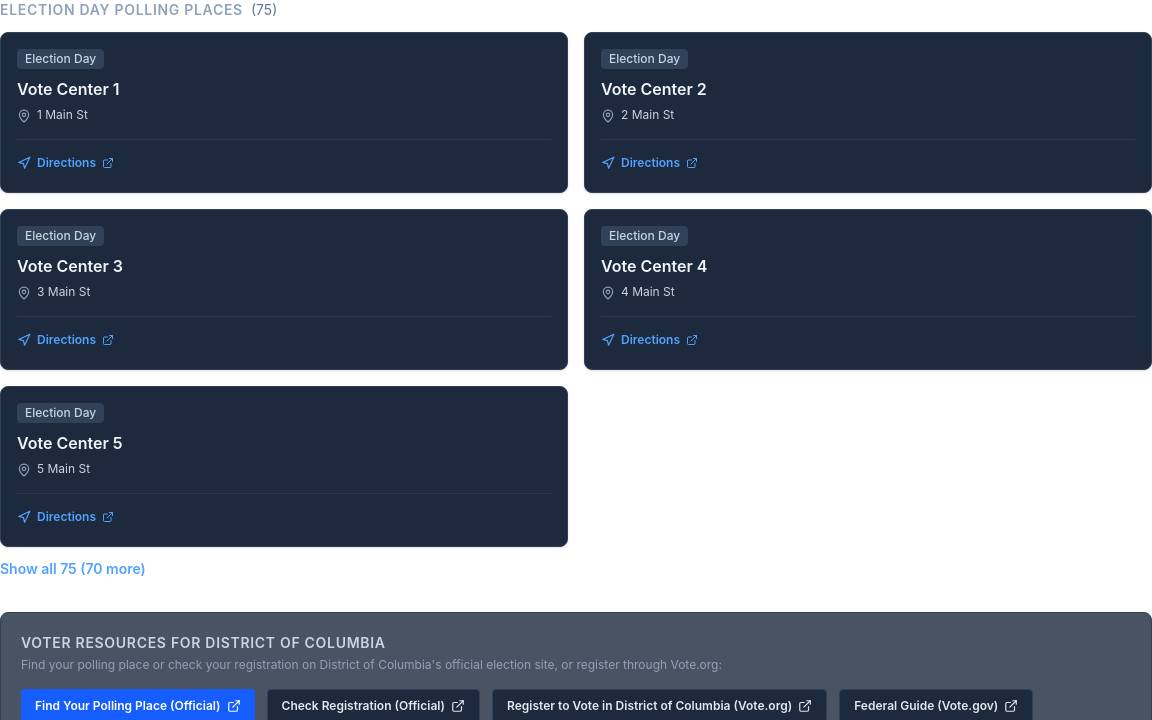
Test: VotingLocations Component › shows the first 5 locations of a long list and expands on request
Check: the heading "Vote Center 5" is shown, box left=17, top=433, right=123, bottom=453
Step 1. Click the button "Show all 75 (70 more)" → [73, 569], box left=0, top=559, right=146, bottom=579
(page scrolled)
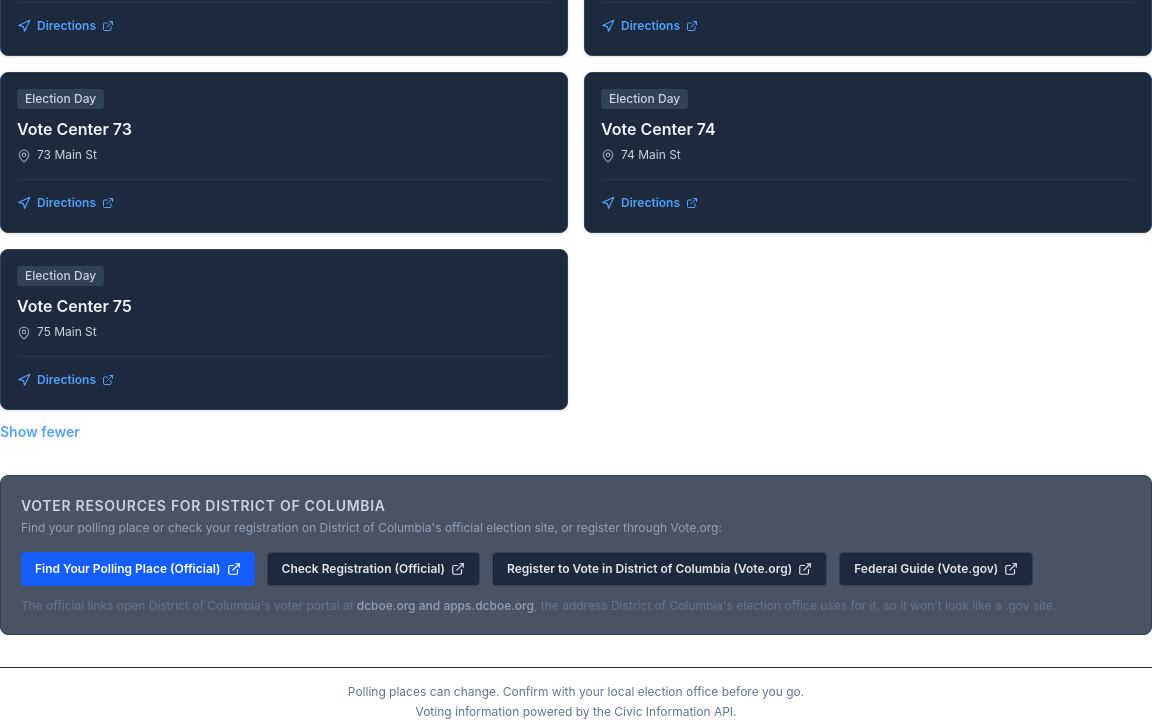
Check: the heading "Vote Center 75" is shown, box left=17, top=296, right=132, bottom=316
Check: the button "Show fewer" is expanded, box left=0, top=422, right=80, bottom=442
